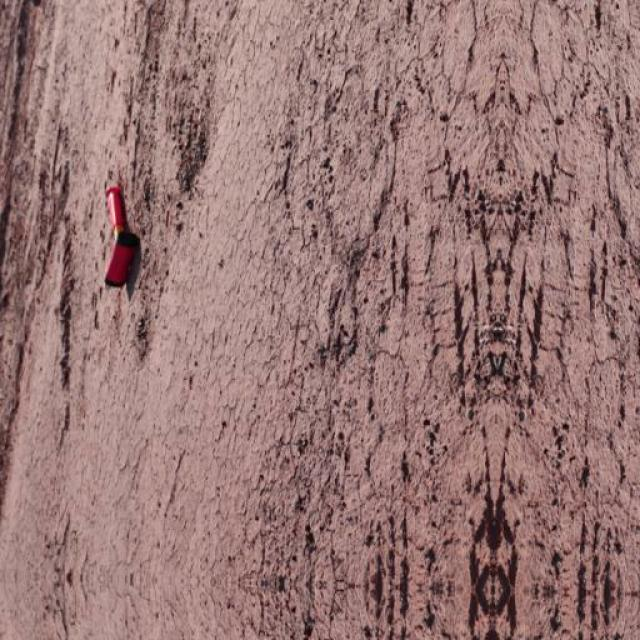mallet: (101, 182, 139, 288)
